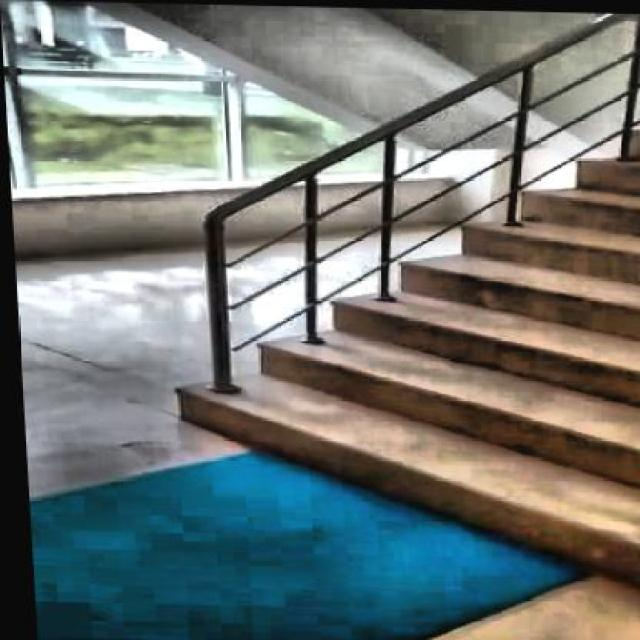stair: (126, 45, 639, 628)
